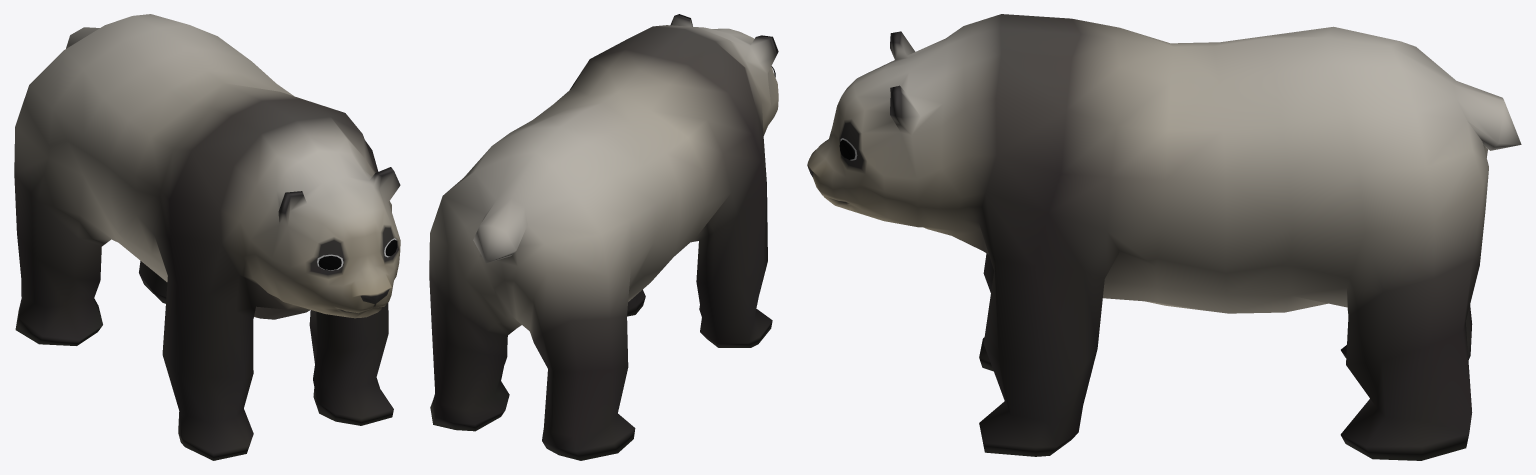
Rendered from panda.glb.
3 renders of one model, left to right at view 1: azimuth 30°, elevation 25°; view 2: azimuth 150°, elevation 25°; view 3: azimuth 270°, elevation 25°, orthographic. The views are drawn at different scales.
Visible parts, largest first — view 1: base; view 2: base; view 3: base.
Boxes of the visible parts, left/top/right/bottom form: base: left=14, top=14, right=400, bottom=460; base: left=429, top=14, right=778, bottom=460; base: left=807, top=14, right=1521, bottom=460.
Size of the model in its own units: 75.99 by 108 by 187.
